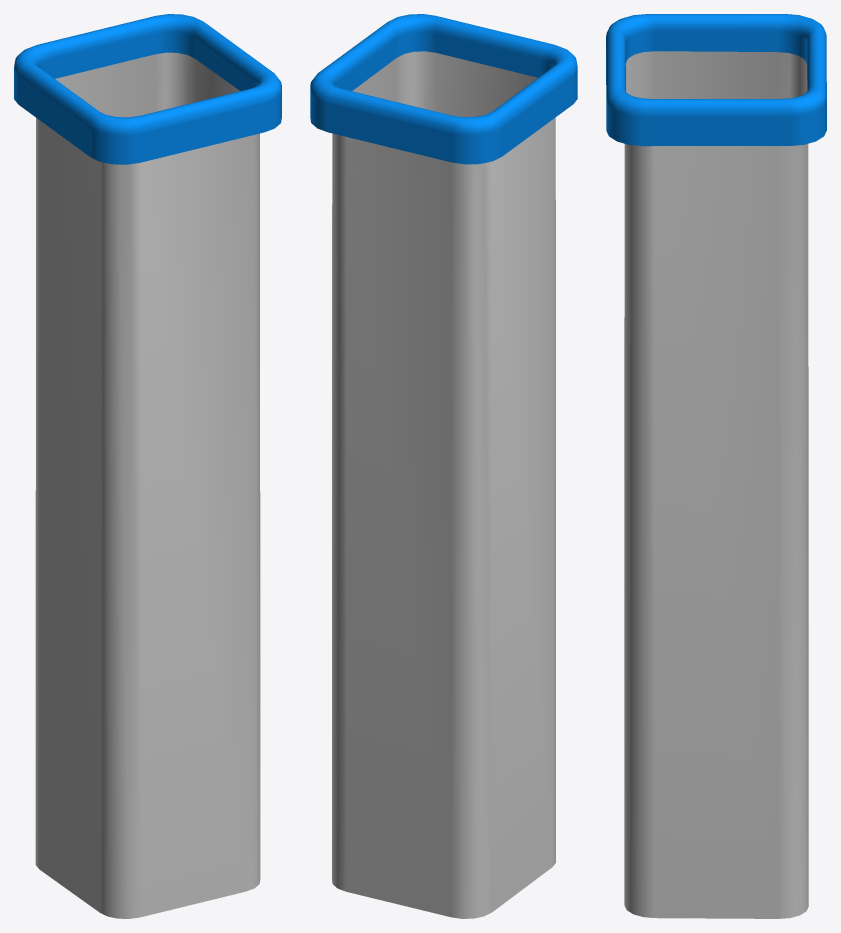
File: Hole.fbx
3 views of the same model, side by side, from view 1: azimuth 30°, elevation 25°; view 2: azimuth 150°, elevation 25°; view 3: azimuth 270°, elevation 25° (orthographic). The views are drawn at different scales.
Visible parts, largest first — view 1: Hole_In, Hole; view 2: Hole_In, Hole; view 3: Hole_In, Hole.
Part boxes in pixels (left/top/right/bottom): Hole_In: left=35, top=52, right=260, bottom=918; Hole: left=14, top=14, right=281, bottom=164; Hole_In: left=332, top=51, right=555, bottom=918; Hole: left=310, top=14, right=577, bottom=164; Hole_In: left=624, top=51, right=808, bottom=918; Hole: left=606, top=14, right=826, bottom=146.
Bounding box in the file's own units: 1.78 × 7.33 × 1.78.
